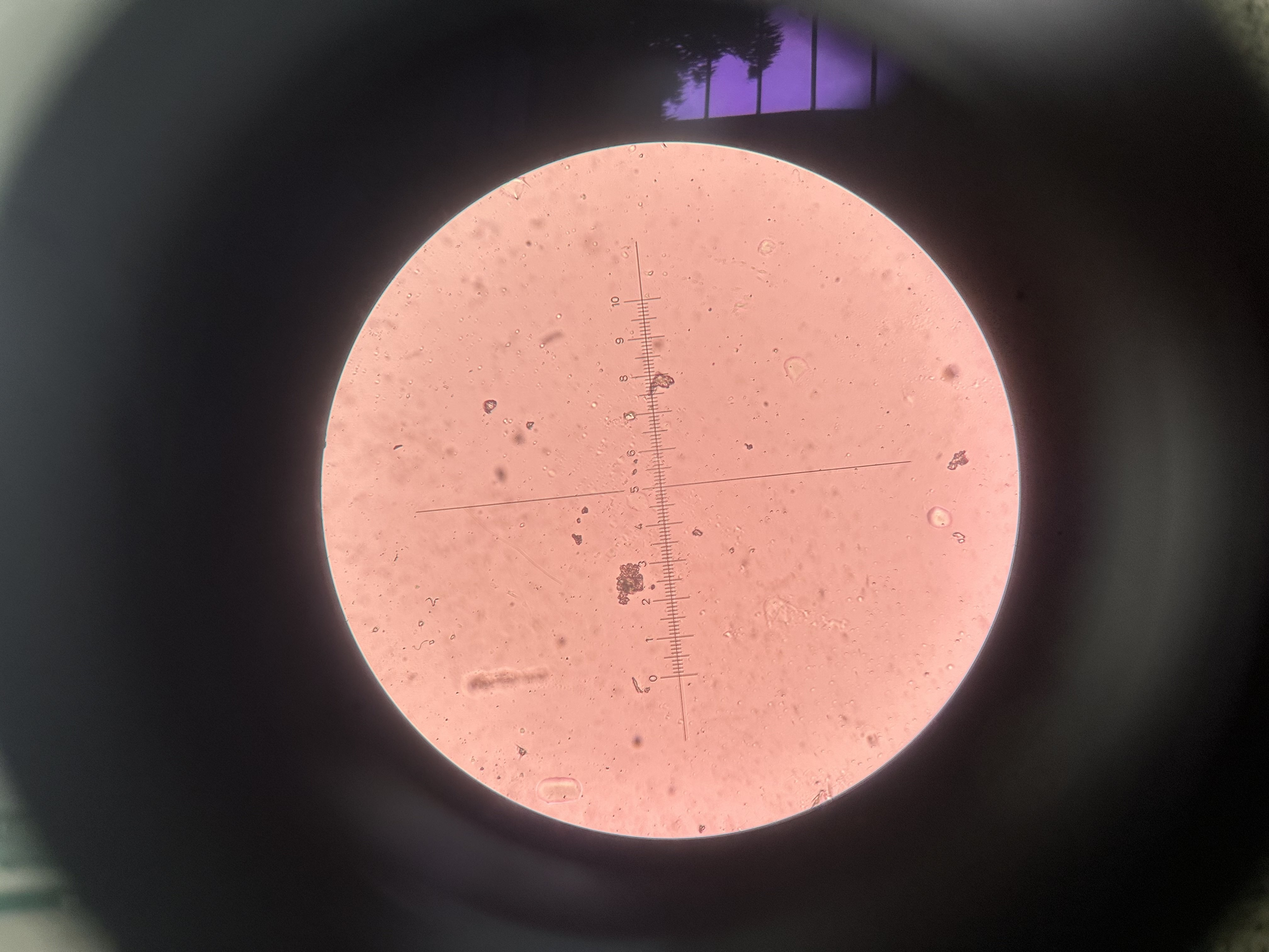not_microplastic: (467, 662, 556, 690), (614, 558, 646, 605), (538, 775, 584, 802), (780, 350, 814, 378), (937, 355, 967, 383), (811, 783, 839, 812), (926, 504, 957, 530), (948, 448, 973, 472), (625, 677, 655, 697), (647, 371, 675, 390), (760, 237, 778, 255), (568, 529, 586, 546), (689, 524, 706, 542), (742, 436, 758, 450), (518, 745, 531, 760), (578, 504, 593, 514), (483, 403, 497, 412)
